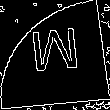M_S: (27, 27, 83, 83)
